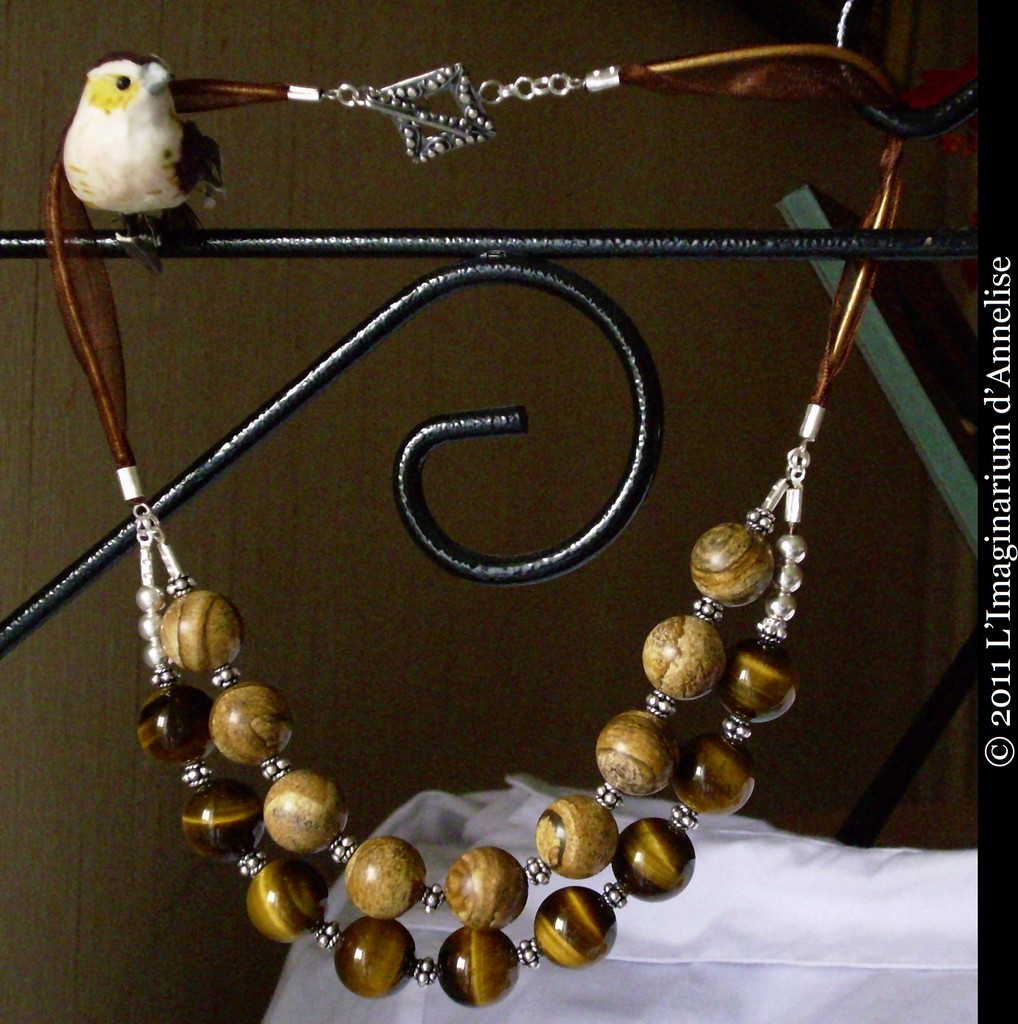Bird: (63, 48, 225, 277)
